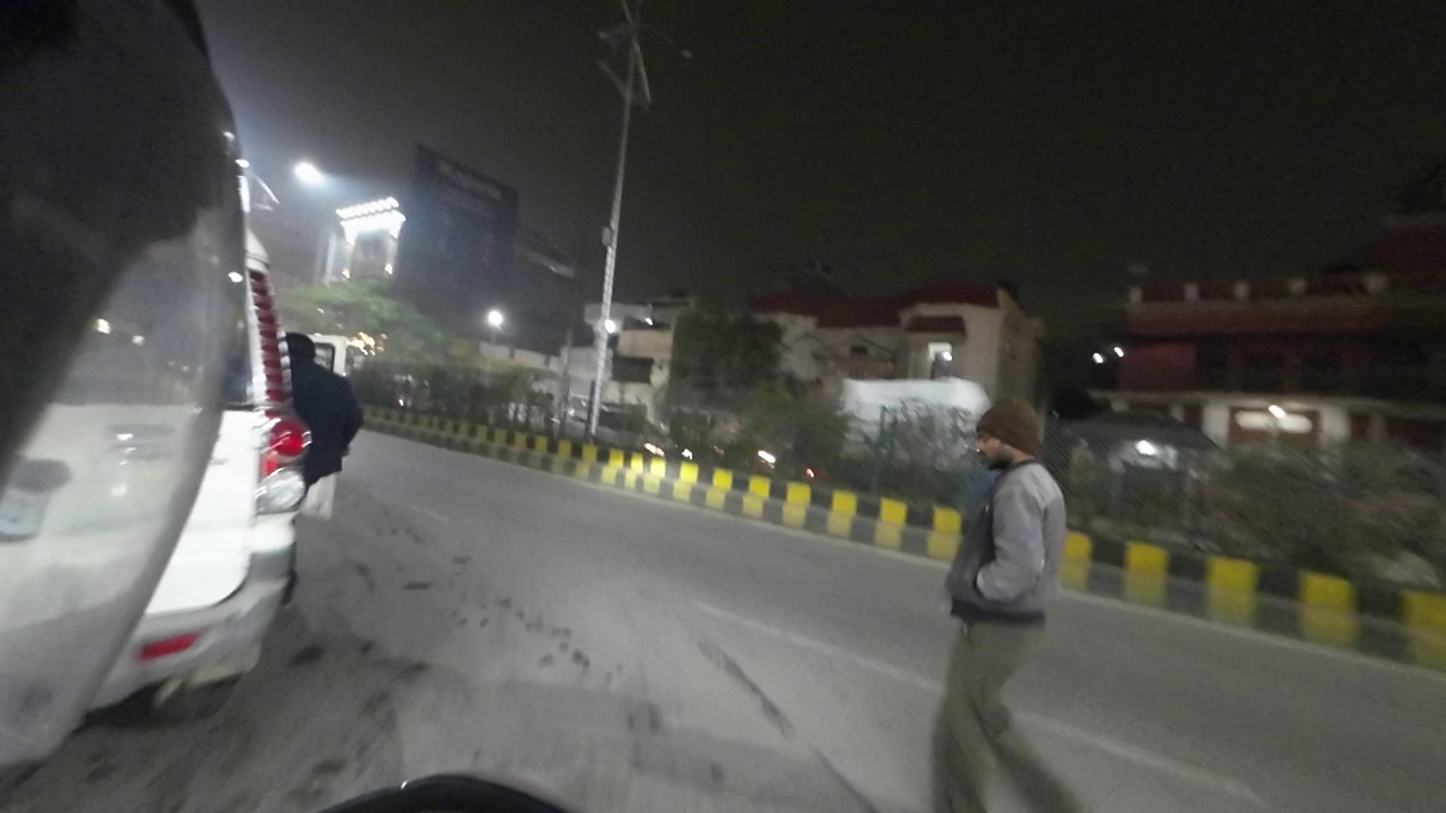streetlight: (648, 23, 706, 64)
